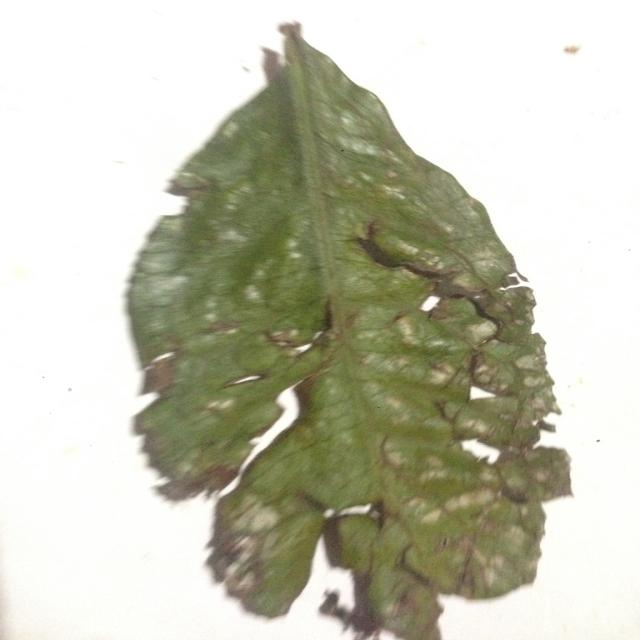Red Leaf Spot: (115, 11, 615, 640)
